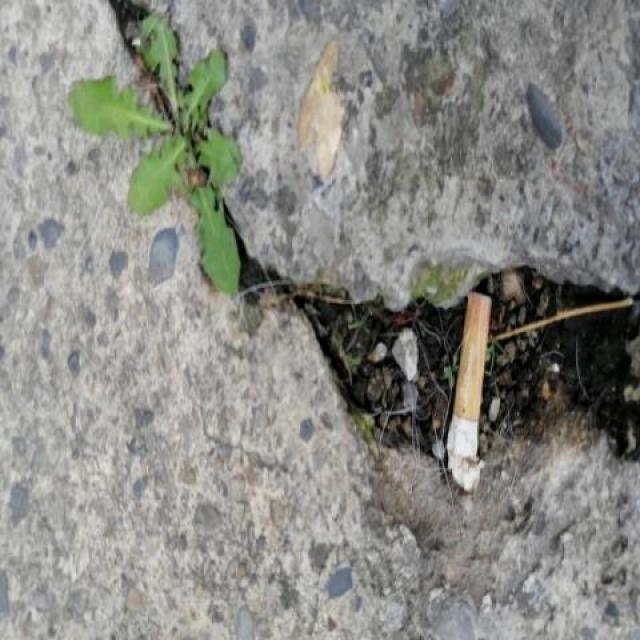non-organic waste: (444, 288, 497, 500)
